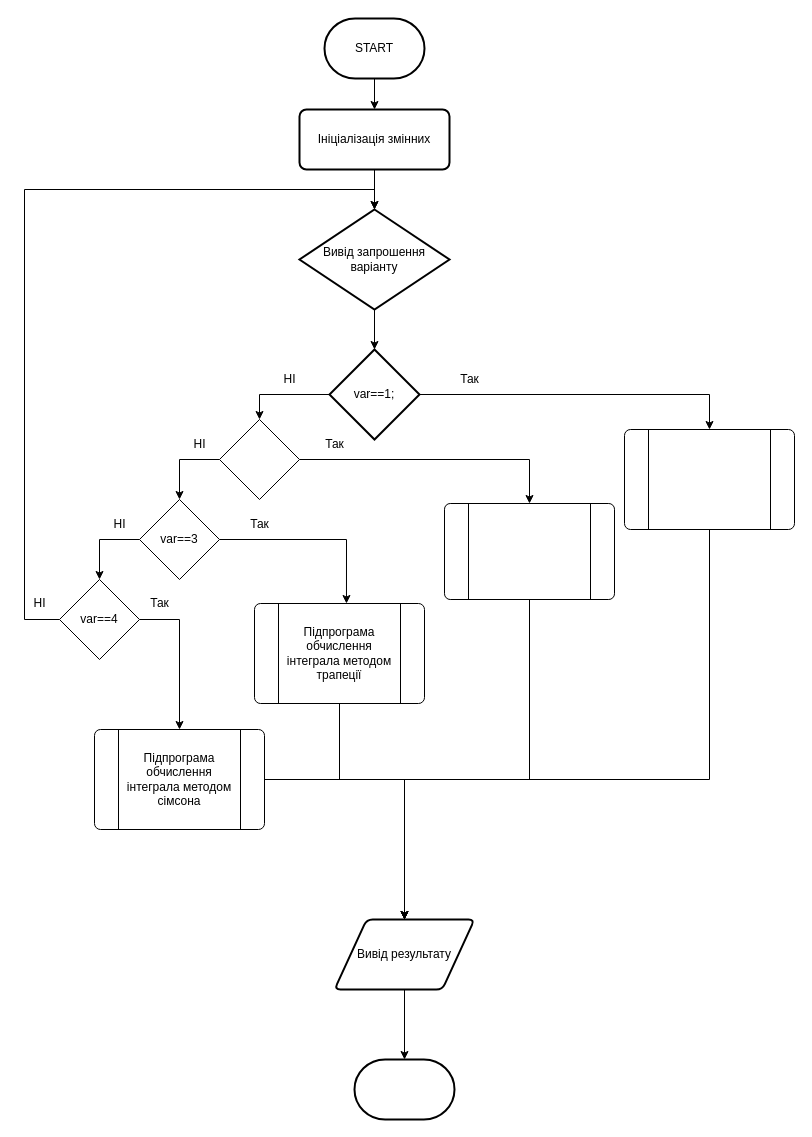
This 812x1137 diagram has some shape labels left out. Each missing label, with the centre of its shape:
var==2;: [259,459]
Кінець: [404,1089]
Підпрограма обчислення інтеграла методом лівого прямокутника: [709,479]
Підпрограма обчислення інтеграла методом правого прямокутника: [529,551]
